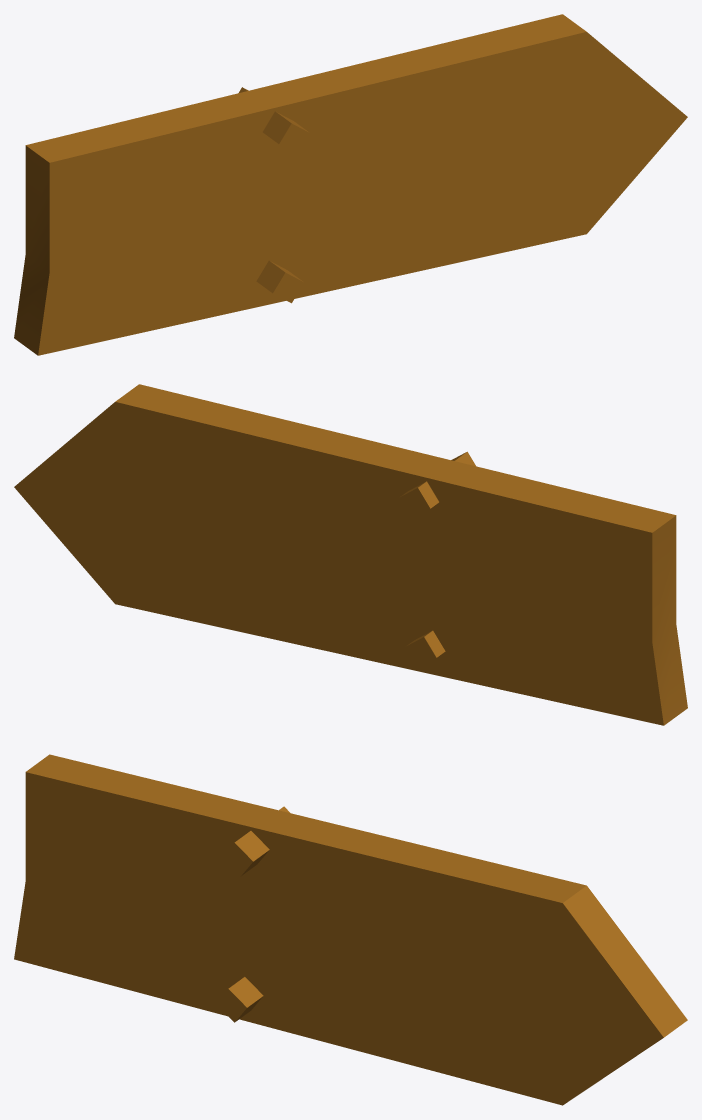
Rendered from hanging_sign.glb.
The picture shows the model from 3 angles, top to bottom: view 1: azimuth 30°, elevation 25°; view 2: azimuth 150°, elevation 25°; view 3: azimuth 330°, elevation 25°; orthographic projection.
Parts seen in each view (by area): view 1: default6_Material_0.001; view 2: default6_Material_0.001; view 3: default6_Material_0.001.
Boxes of the visible parts, x1,y1,x2,y2 form: default6_Material_0.001: (14,14,687,355); default6_Material_0.001: (14,384,687,725); default6_Material_0.001: (14,754,687,1105).
Size of the model in its own units: 1.16 by 0.3465 by 0.1538.
